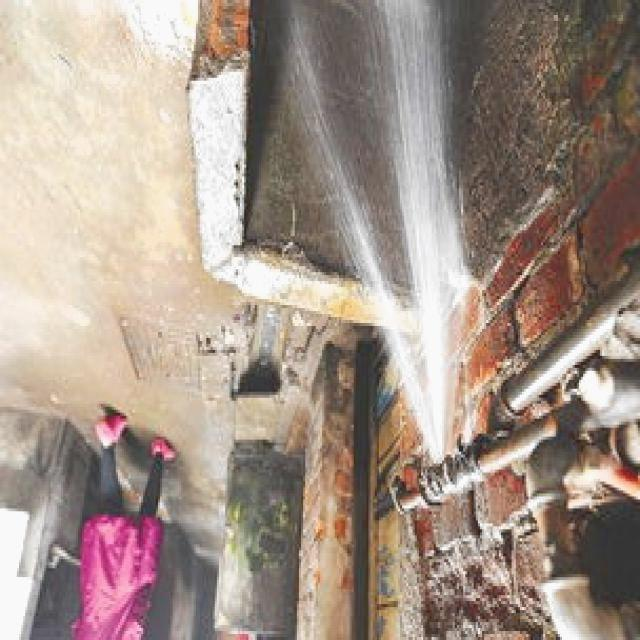pipe burst: (272, 0, 462, 468)
water accumulation: (0, 0, 351, 563)
